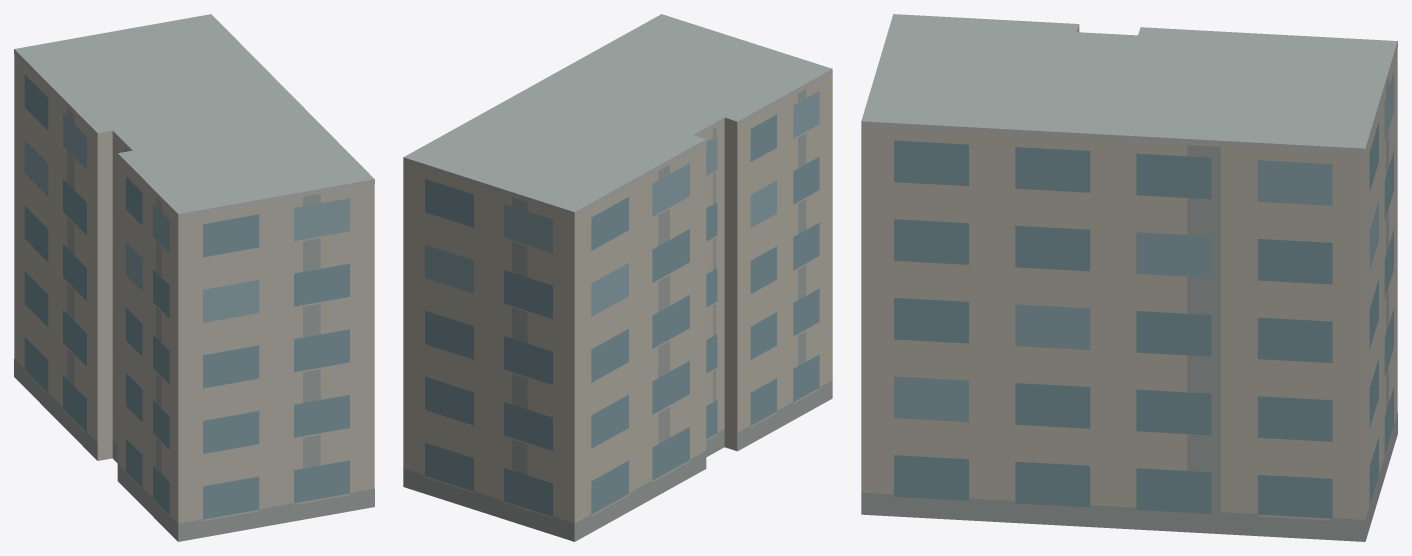
File: survey-upis-32752825.glb
3 views of the same model, side by side, from view 1: azimuth 30°, elevation 25°; view 2: azimuth 150°, elevation 25°; view 3: azimuth 270°, elevation 25° (orthographic). The views are drawn at different scales.
Visible parts, largest first — view 1: survey-upis-32752825.tmp; view 2: survey-upis-32752825.tmp; view 3: survey-upis-32752825.tmp.
Part boxes in pixels (x1=…): survey-upis-32752825.tmp: x1=14, y1=14, x2=374, y2=541; survey-upis-32752825.tmp: x1=403, y1=14, x2=832, y2=541; survey-upis-32752825.tmp: x1=861, y1=14, x2=1397, y2=541.
Size of the model in its own units: 11.42 by 15.55 by 19.23.
